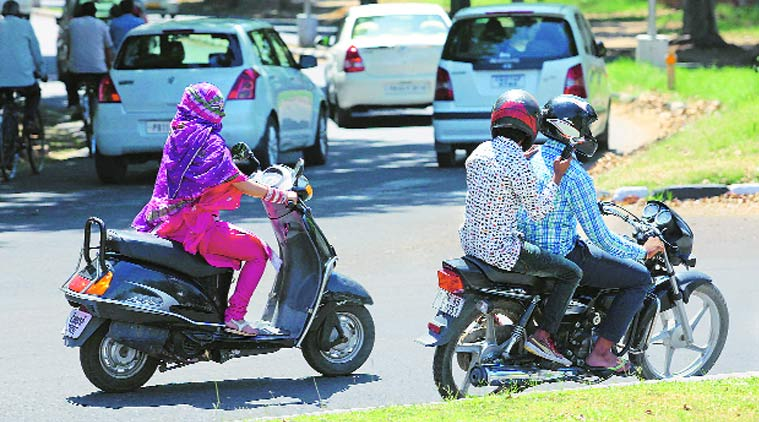with_helmet: (545, 94, 605, 154), (488, 88, 544, 137)
